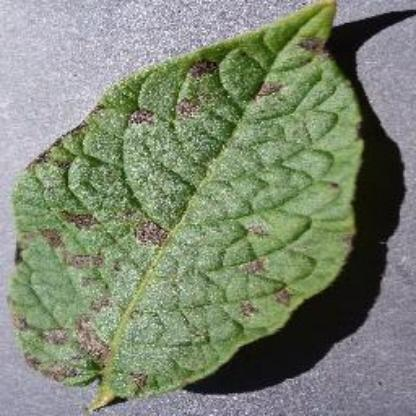Early-Blight: (12, 0, 372, 402)
